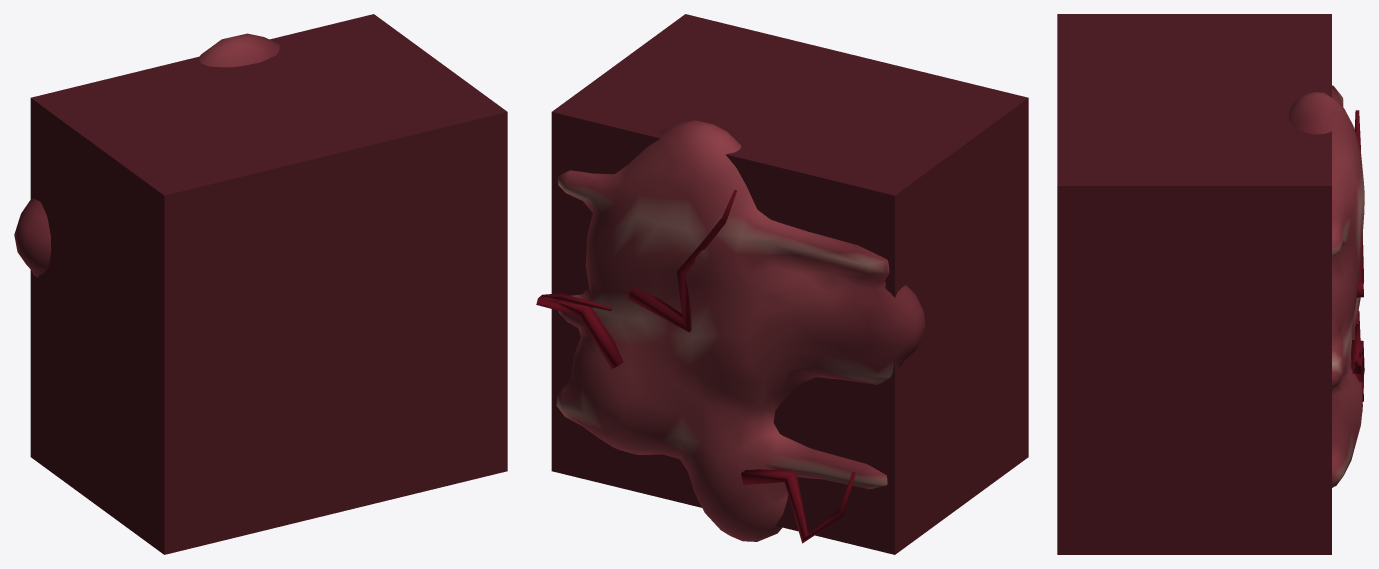
Rendered from wall_of_flesh_flesh.glb.
3 renders of one model, left to right at view 1: azimuth 30°, elevation 25°; view 2: azimuth 150°, elevation 25°; view 3: azimuth 270°, elevation 25°, orthographic. The views are drawn at different scales.
Parts seen in each view (by area): view 1: wall_of_flesh_flesh; view 2: wall_of_flesh_flesh; view 3: wall_of_flesh_flesh.
Part boxes in pixels (<box>): wall_of_flesh_flesh: <box>14,14,507,554</box>; wall_of_flesh_flesh: <box>536,14,1028,554</box>; wall_of_flesh_flesh: <box>1057,14,1364,554</box>.
Bounding box in the file's own units: 4.25 × 4.51 × 3.02.
